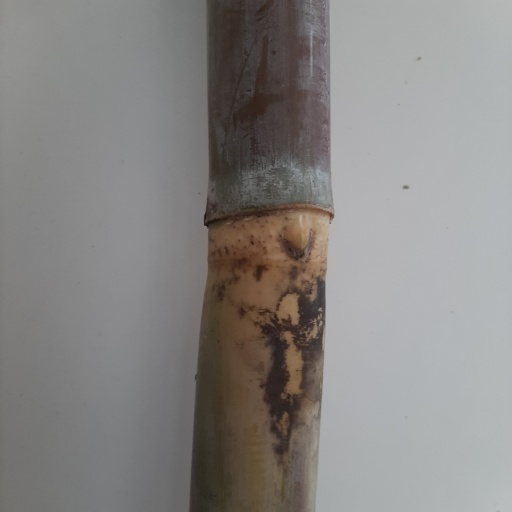Bud: (283, 215, 312, 259)
